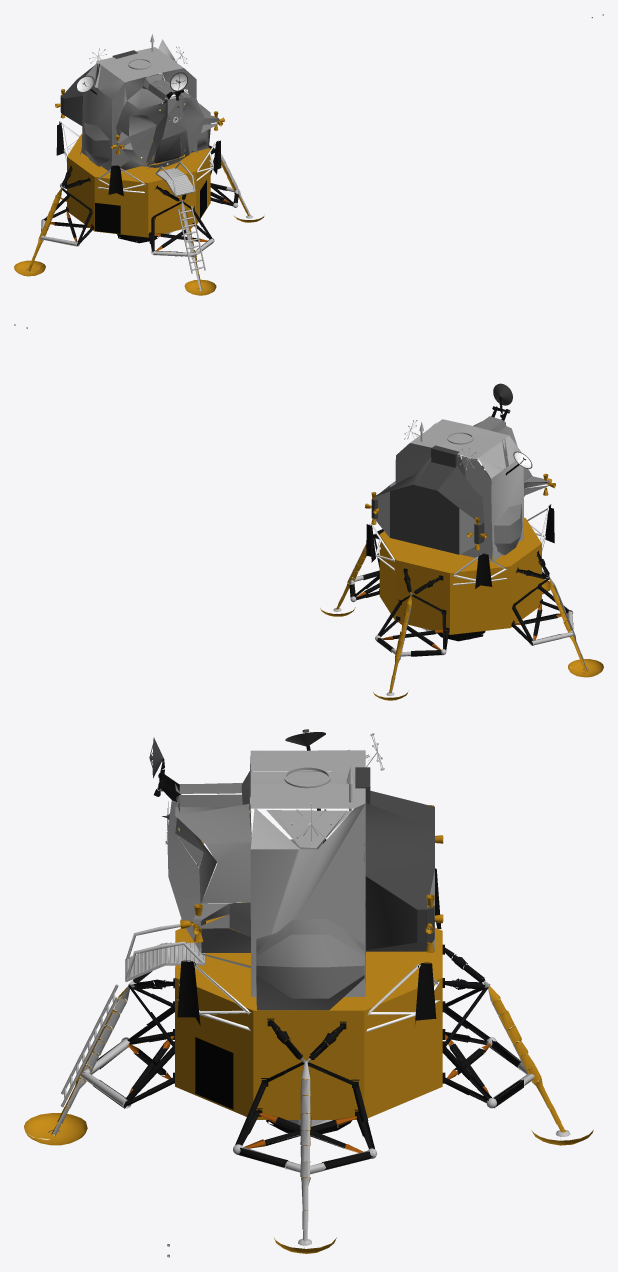
The model's file is lunar-module.glb.
3 views of the same model, one above another, from view 1: azimuth 30°, elevation 25°; view 2: azimuth 150°, elevation 25°; view 3: azimuth 270°, elevation 25° (orthographic). The views are drawn at different scales.
Visible parts, largest first — view 1: Object_6, Object_20, Object_10, Object_16, Object_9, Object_12, Object_21, Object_18, Object_13, Object_7, Object_4; view 2: Object_6, Object_9, Object_10, Object_16, Object_20, Object_12, Object_21, Object_7, Object_18, Object_13; view 3: Object_6, Object_10, Object_16, Object_20, Object_9, Object_21, Object_12, Object_13, Object_3, Object_7, Object_18, Object_19.
Part boxes in pixels (<box>): Object_6: <box>14,89,264,295</box>; Object_20: <box>111,68,219,170</box>; Object_10: <box>81,39,217,172</box>; Object_16: <box>41,89,238,256</box>; Object_9: <box>60,50,187,163</box>; Object_12: <box>40,42,230,273</box>; Object_21: <box>80,103,210,166</box>; Object_18: <box>61,55,215,193</box>; Object_13: <box>26,154,252,290</box>; Object_7: <box>28,111,249,290</box>; Object_4: <box>95,203,120,233</box>; Object_6: <box>320,503,603,700</box>; Object_9: <box>371,383,532,554</box>; Object_10: <box>410,419,548,561</box>; Object_16: <box>349,396,573,656</box>; Object_20: <box>395,416,550,496</box>; Object_12: <box>351,420,573,647</box>; Object_21: <box>380,481,522,642</box>; Object_7: <box>336,473,587,693</box>; Object_18: <box>372,430,548,585</box>; Object_13: <box>333,533,589,695</box>; Object_6: <box>24,805,593,1253</box>; Object_10: <box>176,750,365,996</box>; Object_16: <box>93,745,523,1170</box>; Object_20: <box>167,756,365,982</box>; Object_9: <box>149,729,434,951</box>; Object_21: <box>146,839,466,1137</box>; Object_12: <box>61,733,525,1169</box>; Object_13: <box>48,980,570,1245</box>; Object_3: <box>195,1037,233,1109</box>; Object_7: <box>51,840,565,1210</box>; Object_18: <box>165,752,439,1032</box>; Object_19: <box>125,1034,490,1152</box>.
Bounding box in the file's own units: 1441 × 502 × 643.
